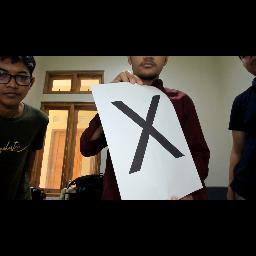x: (102, 90, 190, 178)
